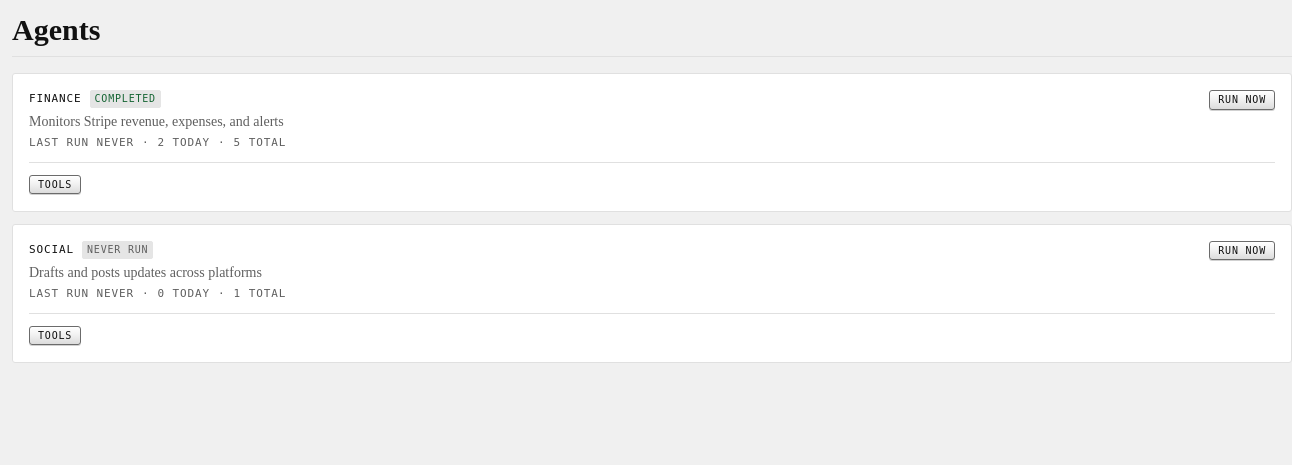
it: AgentsPage › keeps a queued confirmation in the non-error style
Click the button "Run now" in the row of "completed" at (1242, 100), box [1209, 90, 1275, 110]
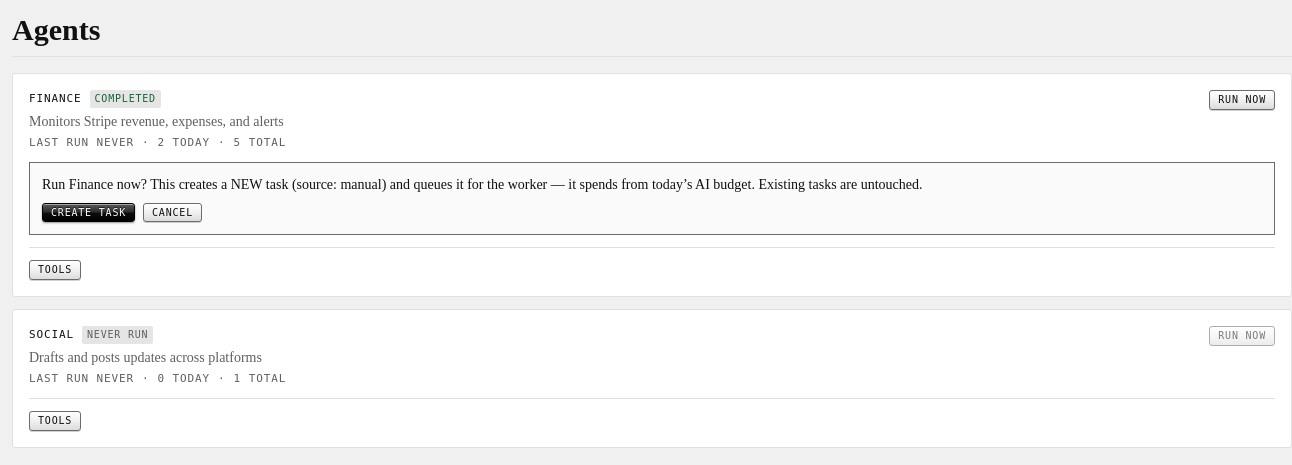
Click the button "Create task" at (88, 213), box [42, 203, 135, 222]
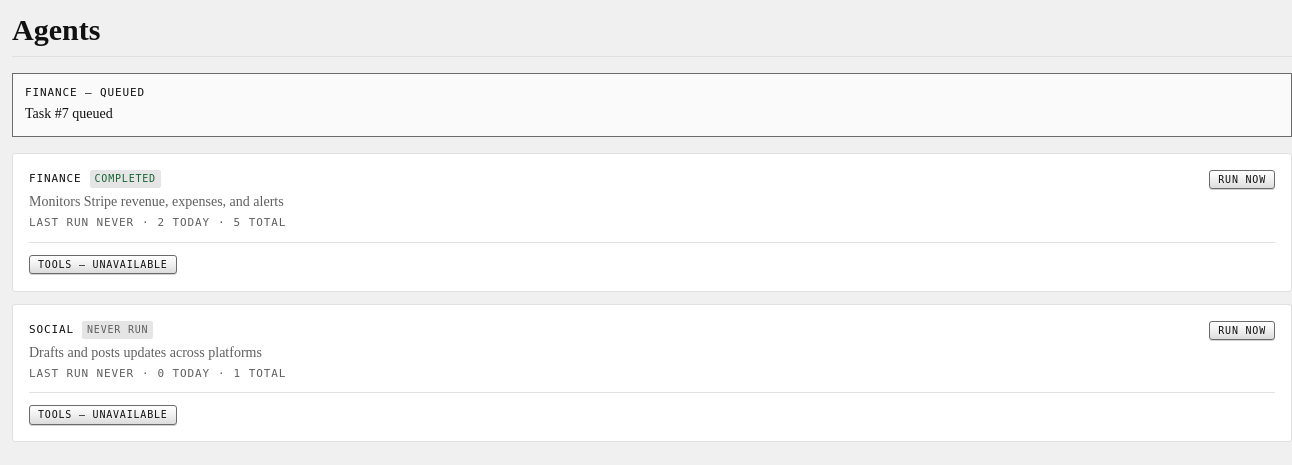
expect the message shows "Task #7 queued": met, box [25, 106, 113, 121]
